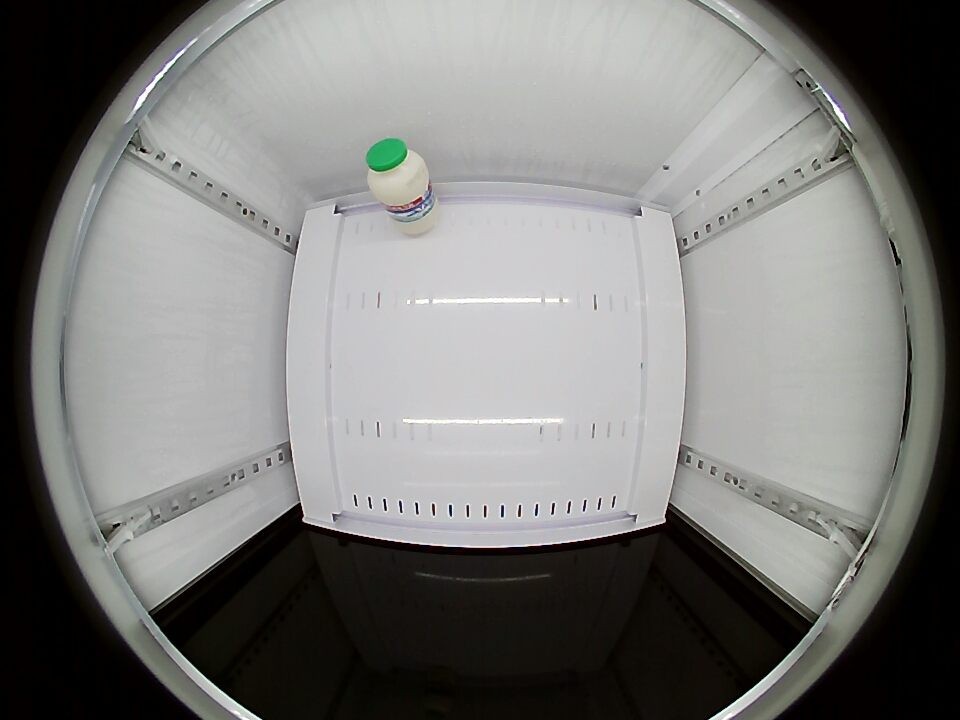liziyuan: (365, 138, 432, 208)
